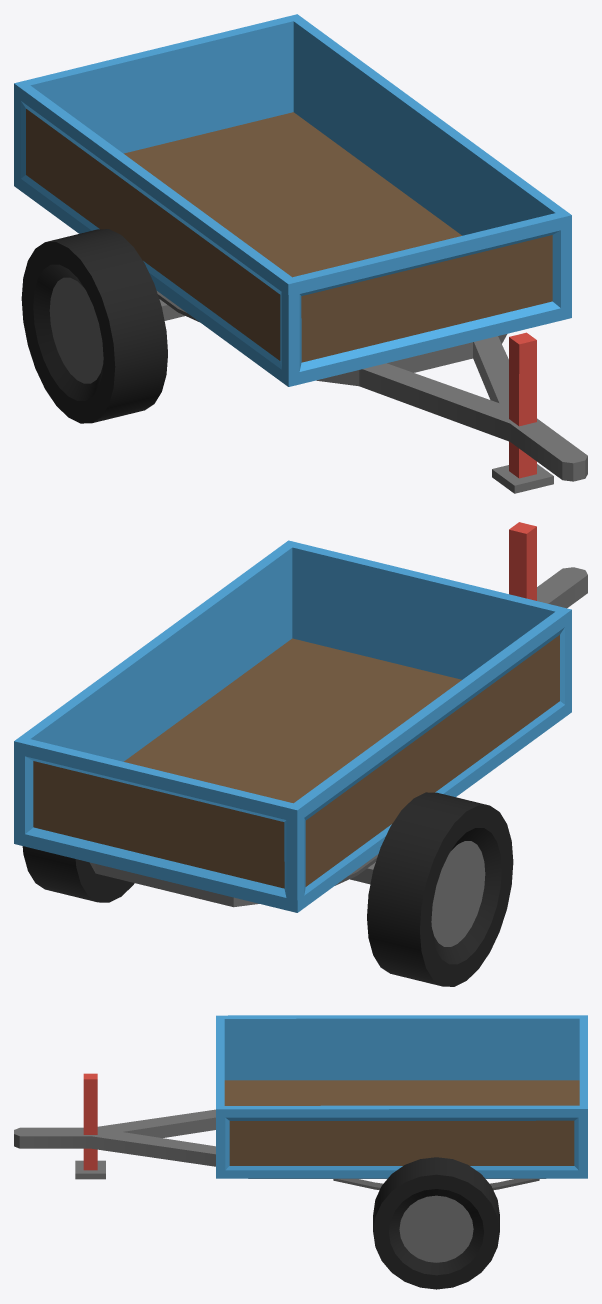
The model's file is Tractor_01_03_Trailer.fbx.
The picture shows the model from 3 angles, top to bottom: view 1: azimuth 30°, elevation 25°; view 2: azimuth 150°, elevation 25°; view 3: azimuth 270°, elevation 25°; orthographic projection. The views are drawn at different scales.
Parts seen in each view (by area): view 1: Tractor_01_03_Trailer, Tractor_01_03_Trailer_Leg; view 2: Tractor_01_03_Trailer, Tractor_01_03_Trailer_Leg; view 3: Tractor_01_03_Trailer, Tractor_01_03_Trailer_Leg.
Part boxes in pixels (x1=…): Tractor_01_03_Trailer: x1=14, y1=14, x2=587, y2=481; Tractor_01_03_Trailer_Leg: x1=492, y1=332, x2=553, y2=493; Tractor_01_03_Trailer: x1=14, y1=540, x2=587, y2=986; Tractor_01_03_Trailer_Leg: x1=509, y1=522, x2=536, y2=600; Tractor_01_03_Trailer: x1=14, y1=1015, x2=587, y2=1289; Tractor_01_03_Trailer_Leg: x1=75, y1=1073, x2=105, y2=1179.
Size of the model in its own units: 2.53 by 1.45 by 4.66.
